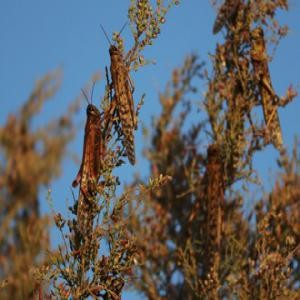locust: (194, 130, 237, 279), (77, 97, 108, 240)
